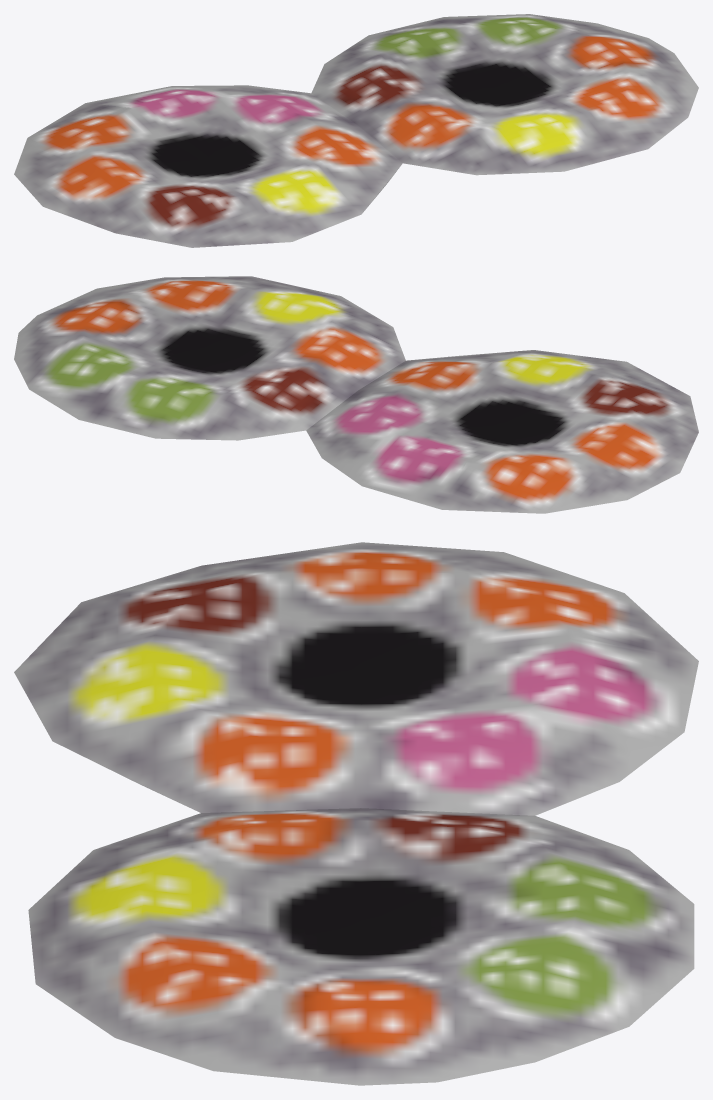
File: dagasi04a.fbx
3 views of the same model, one above another, from view 1: azimuth 30°, elevation 25°; view 2: azimuth 150°, elevation 25°; view 3: azimuth 270°, elevation 25° (orthographic). The views are drawn at different scales.
Visible parts, largest first — view 1: dagasi04a; view 2: dagasi04a; view 3: dagasi04a.
Boxes of the visible parts, x1,y1,x2,y2 form: dagasi04a: (14, 14, 698, 247); dagasi04a: (14, 276, 698, 513); dagasi04a: (14, 542, 698, 1085).
Bounding box in the file's own units: 26.22 × 1.41 × 13.97.
